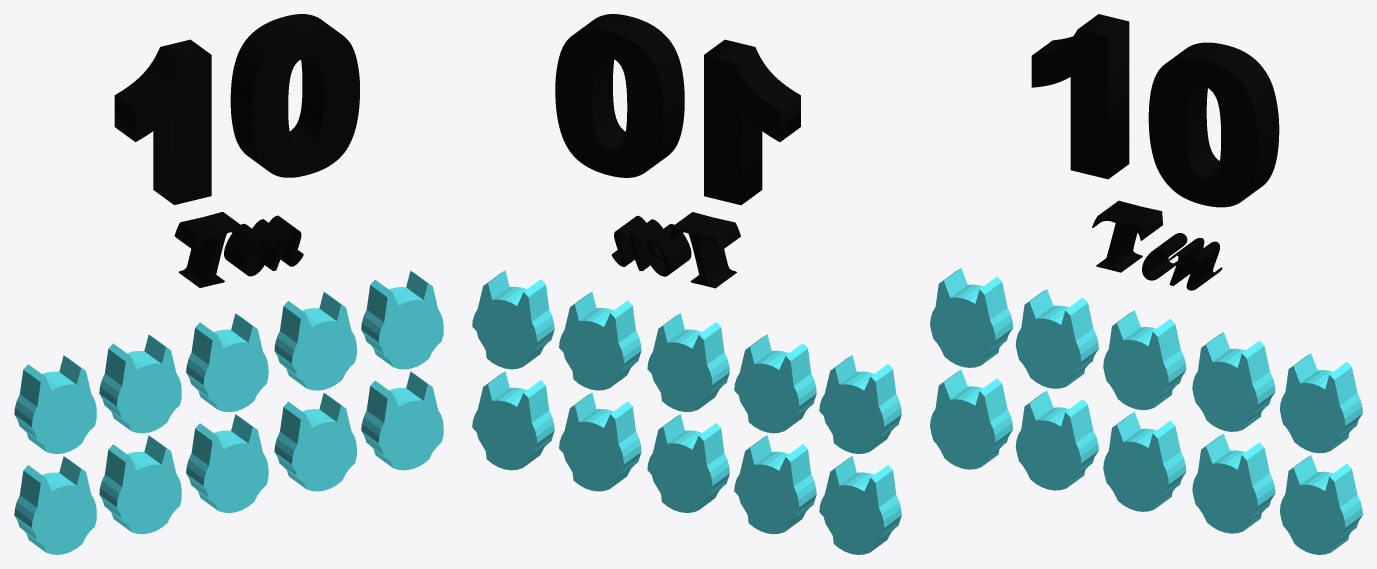
File: Number_10.glb
The picture shows the model from 3 angles, left to right: view 1: azimuth 30°, elevation 25°; view 2: azimuth 150°, elevation 25°; view 3: azimuth 330°, elevation 25°; orthographic projection.
Parts seen in each view (by area): view 1: Text, Text.001, Cylinder.008, Cylinder.003, Cylinder.007, Cylinder.005, Cylinder.006, Cylinder, Cylinder.009, Cylinder.001, Cylinder.002, Cylinder.004; view 2: Text, Text.001, Cylinder, Cylinder.001, Cylinder.007, Cylinder.008, Cylinder.006, Cylinder.002, Cylinder.003, Cylinder.009, Cylinder.005, Cylinder.004; view 3: Text, Cylinder.007, Cylinder.005, Cylinder.008, Cylinder.009, Cylinder, Cylinder.004, Cylinder.002, Cylinder.001, Cylinder.006, Cylinder.003, Text.001.
Boxes of the visible parts, box(x1,y1,x2,y2) form: Text: box(114, 14, 359, 204); Text.001: box(174, 212, 303, 287); Cylinder.008: box(14, 456, 96, 554); Cylinder.003: box(361, 270, 443, 369); Cylinder.007: box(186, 414, 268, 512); Cylinder.005: box(274, 393, 356, 491); Cylinder.006: box(361, 371, 443, 470); Cylinder: box(99, 335, 181, 433); Cylinder.009: box(99, 435, 181, 534); Cylinder.001: box(14, 355, 96, 453); Cylinder.002: box(186, 313, 268, 412); Cylinder.004: box(274, 292, 356, 390); Text: box(555, 14, 800, 205); Text.001: box(611, 212, 740, 288); Cylinder: box(734, 334, 816, 433); Cylinder.001: box(819, 355, 901, 453); Cylinder.007: box(647, 414, 729, 512); Cylinder.008: box(819, 456, 901, 554); Cylinder.006: box(472, 371, 554, 470); Cylinder.002: box(647, 313, 729, 411); Cylinder.003: box(472, 270, 554, 369); Cylinder.009: box(734, 435, 816, 534); Cylinder.005: box(559, 392, 641, 491); Cylinder.004: box(559, 292, 641, 390); Text: box(1031, 14, 1279, 207); Cylinder.007: box(1103, 412, 1186, 511); Cylinder.005: box(1192, 434, 1275, 533); Cylinder.008: box(930, 370, 1012, 469); Cylinder.009: box(1015, 391, 1098, 490); Cylinder: box(1015, 289, 1098, 388); Cylinder.004: box(1192, 332, 1275, 431); Cylinder.002: box(1103, 310, 1186, 409); Cylinder.001: box(930, 268, 1012, 367); Cylinder.006: box(1280, 455, 1362, 554); Cylinder.003: box(1280, 353, 1362, 453); Text.001: box(1092, 200, 1222, 290).
Size of the model in its own units: 1.36 by 1.47 by 0.1237.
